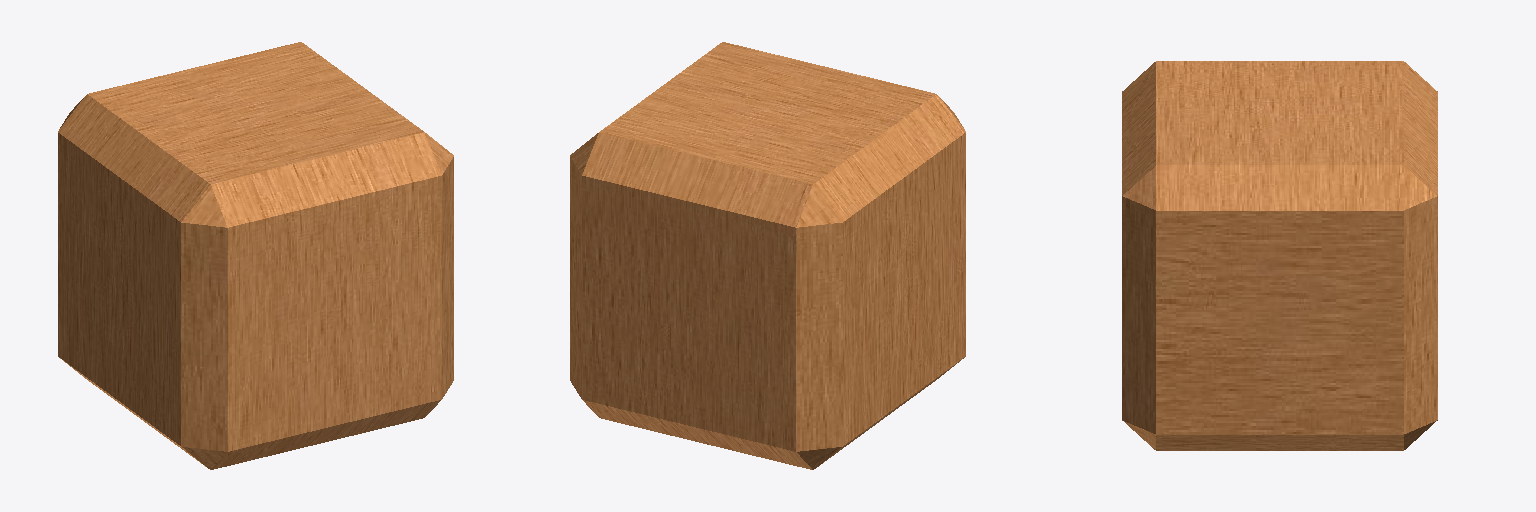
3 renders of one model, left to right at view 1: azimuth 30°, elevation 25°; view 2: azimuth 150°, elevation 25°; view 3: azimuth 270°, elevation 25°, orthographic.
Visible parts, largest first — view 1: 立方体; view 2: 立方体; view 3: 立方体.
Part boxes in pixels (bbox=[...]): 立方体: bbox=[58, 42, 453, 469]; 立方体: bbox=[570, 42, 965, 469]; 立方体: bbox=[1122, 61, 1437, 450].
Size of the model in its own units: 1 by 1 by 1.
1 materials, 1 textured.